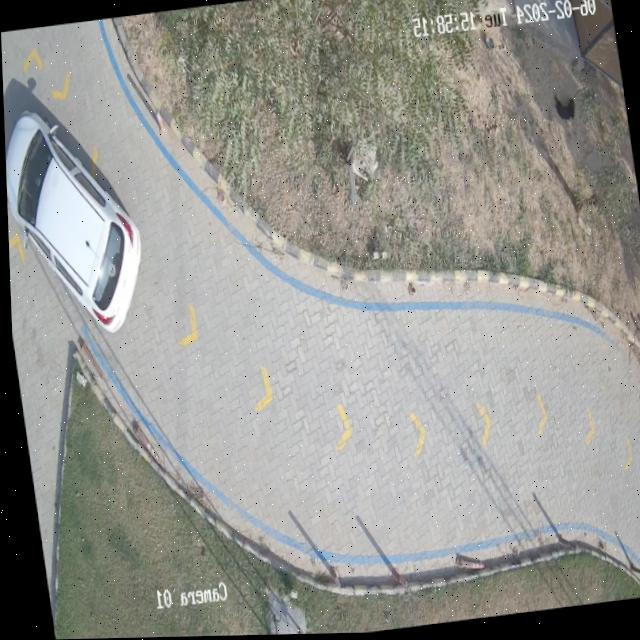car: (5, 111, 139, 332)
